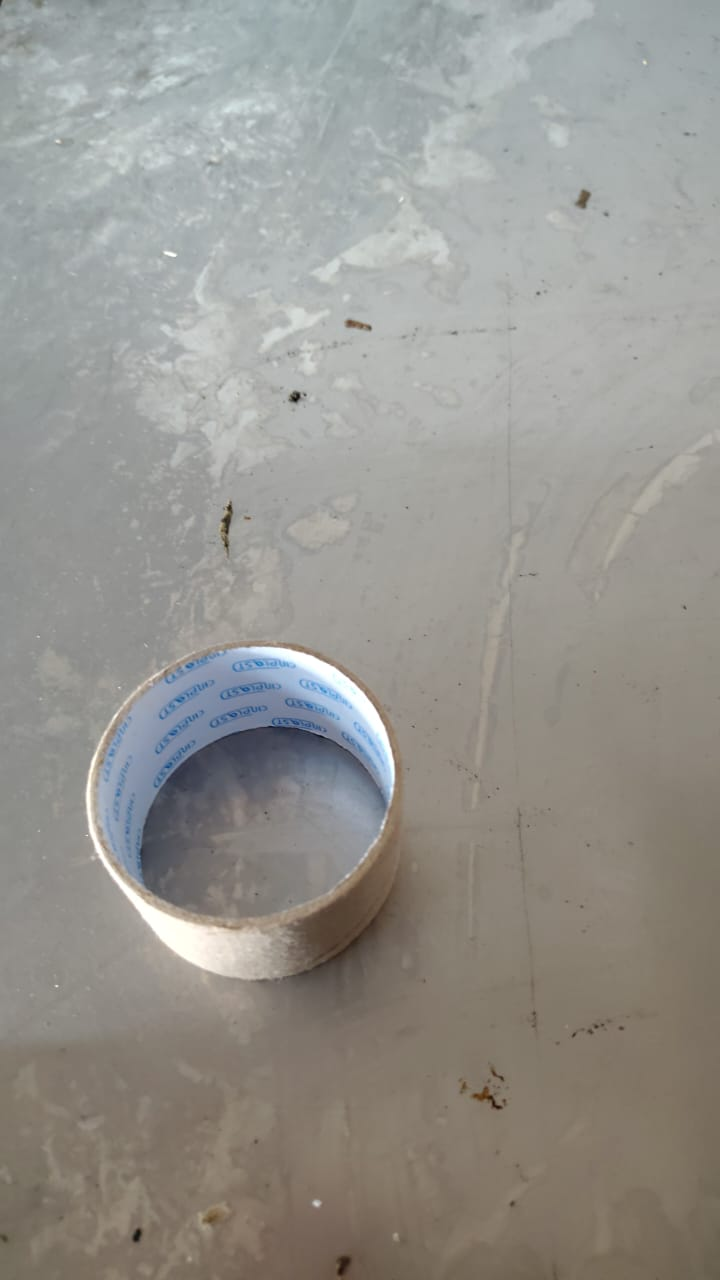Carton: (80, 641, 400, 984)
